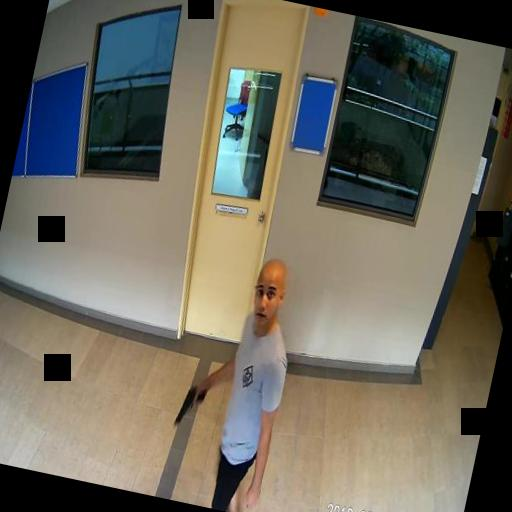Handgun: (172, 380, 206, 428)
